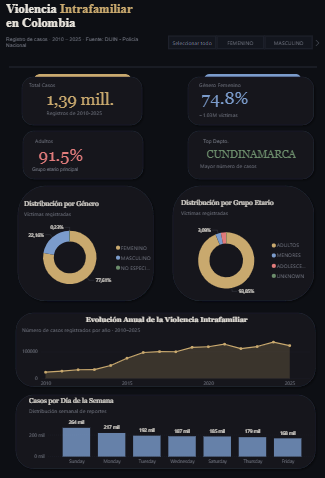

What the dashboard file says about the page in this screenshot:
{"tool":"powerbi","page":{"name":"Violencia intrafamiliar","canvas":[816,1200],"ordinal":0},"visuals":[{"type":"shape","box":[23,29,770,280],"z":0},{"type":"textbox","box":[10,0,357.5,280],"z":1000},{"type":"textbox","box":[10,85,358.3,280],"z":2000},{"type":"shape","box":[84,187,243,55],"z":3000},{"type":"slicer","fields":{"Values":["public violencia_intrafamiliar.GENERO"]},"box":[396,85,410,47],"z":4000},{"type":"shape","box":[46,184,320,140],"z":5000},{"type":"textbox","box":[67,201,261,41],"z":6000},{"type":"cardVisual","fields":{"Data":["Sum(public violencia_intrafamiliar.CANTIDAD)"]},"box":[88,204,242,111],"z":7000},{"type":"shape","box":[511,187,243,49],"z":8000},{"type":"shape","box":[459,184,334,140],"z":9000},{"type":"cardVisual","fields":{"Data":["public violencia_intrafamiliar.% Femenino"]},"box":[476,204,209,84],"z":10000},{"type":"textbox","box":[493,201,250,27],"z":11000},{"type":"textbox","box":[493,274,250,27],"z":12000},{"type":"shape","box":[47,319,320,140],"z":13000},{"type":"cardVisual","fields":{"Data":["public violencia_intrafamiliar.% Adultos"]},"box":[67,333,242,111],"z":14000},{"type":"textbox","box":[82,339,250,27],"z":15000},{"type":"textbox","box":[74,410,265,84],"z":16000},{"type":"shape","box":[460,319,334,140],"z":17000},{"type":"cardVisual","fields":{"Data":["public violencia_intrafamiliar.Top Departamento"]},"box":[487,333,281,111],"z":18000},{"type":"textbox","box":[502,339,266,50],"z":19000},{"type":"textbox","box":[494,402,266,50],"z":20000},{"type":"shape","box":[35,457,358,307],"z":21000},{"type":"donutChart","title":"Distribución por Género","fields":{"Category":["public violencia_intrafamiliar.GENERO"],"Y":["Sum(public violencia_intrafamiliar.CANTIDAD)"]},"box":[55,503,338,245],"z":22000},{"type":"shape","box":[423,457,372,307],"z":23000},{"type":"donutChart","title":"Distribución por Grupo Etario","fields":{"Category":["public violencia_intrafamiliar.GRUPO ETARIO"],"Y":["Sum(public violencia_intrafamiliar.CANTIDAD)"]},"box":[448,499,334,265],"z":24000},{"type":"shape","box":[31,775,768,204],"z":25000},{"type":"lineChart","title":"Evolución Anual de la Violencia Intrafamiliar","fields":{"Category":["public violencia_intrafamiliar.YEAR"],"Y":["Sum(public violencia_intrafamiliar.CANTIDAD)"]},"box":[51,793,733,186],"z":26000},{"type":"shape","box":[31,979,768,204],"z":27000},{"type":"clusteredColumnChart","title":"Casos por Día de la Semana","fields":{"Category":["public violencia_intrafamiliar.WEEKDAY"],"Y":["Sum(public violencia_intrafamiliar.CANTIDAD)"]},"box":[67,995,728,179],"z":28000},{"type":"textbox","box":[632.9,2.9,175.7,50],"z":28001}]}

Visuals, with their boxes in screenshot pixels (x1, y1, x2, y2), scaled from the page's 816x1200 canvas onto the 325x478 screenshot:
shape: box(9, 12, 316, 123)
textbox: box(4, 0, 146, 112)
textbox: box(4, 34, 147, 145)
shape: box(33, 74, 130, 96)
slicer - public violencia_intrafamiliar.GENERO: box(158, 34, 321, 53)
shape: box(18, 73, 146, 129)
textbox: box(27, 80, 131, 96)
cardVisual - Sum(public violencia_intrafamiliar.CANTIDAD): box(35, 81, 131, 125)
shape: box(204, 74, 300, 94)
shape: box(183, 73, 316, 129)
cardVisual - public violencia_intrafamiliar.% Femenino: box(190, 81, 273, 115)
textbox: box(196, 80, 296, 91)
textbox: box(196, 109, 296, 120)
shape: box(19, 127, 146, 183)
cardVisual - public violencia_intrafamiliar.% Adultos: box(27, 133, 123, 177)
textbox: box(33, 135, 132, 146)
textbox: box(29, 163, 135, 197)
shape: box(183, 127, 316, 183)
cardVisual - public violencia_intrafamiliar.Top Departamento: box(194, 133, 306, 177)
textbox: box(200, 135, 306, 155)
textbox: box(197, 160, 303, 180)
shape: box(14, 182, 157, 304)
"Distribución por Género" donutChart: box(22, 200, 157, 298)
shape: box(168, 182, 317, 304)
"Distribución por Grupo Etario" donutChart: box(178, 199, 311, 304)
shape: box(12, 309, 318, 390)
"Evolución Anual de la Violencia Intrafamiliar" lineChart: box(20, 316, 312, 390)
shape: box(12, 390, 318, 471)
"Casos por Día de la Semana" clusteredColumnChart: box(27, 396, 317, 468)
textbox: box(252, 1, 322, 21)
